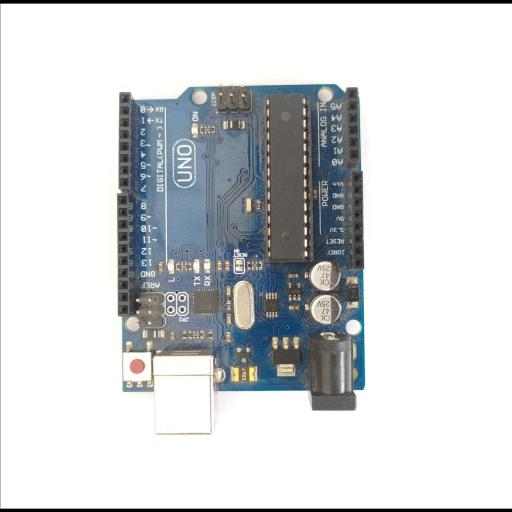Arduino Uno R3: (115, 82, 367, 428)
